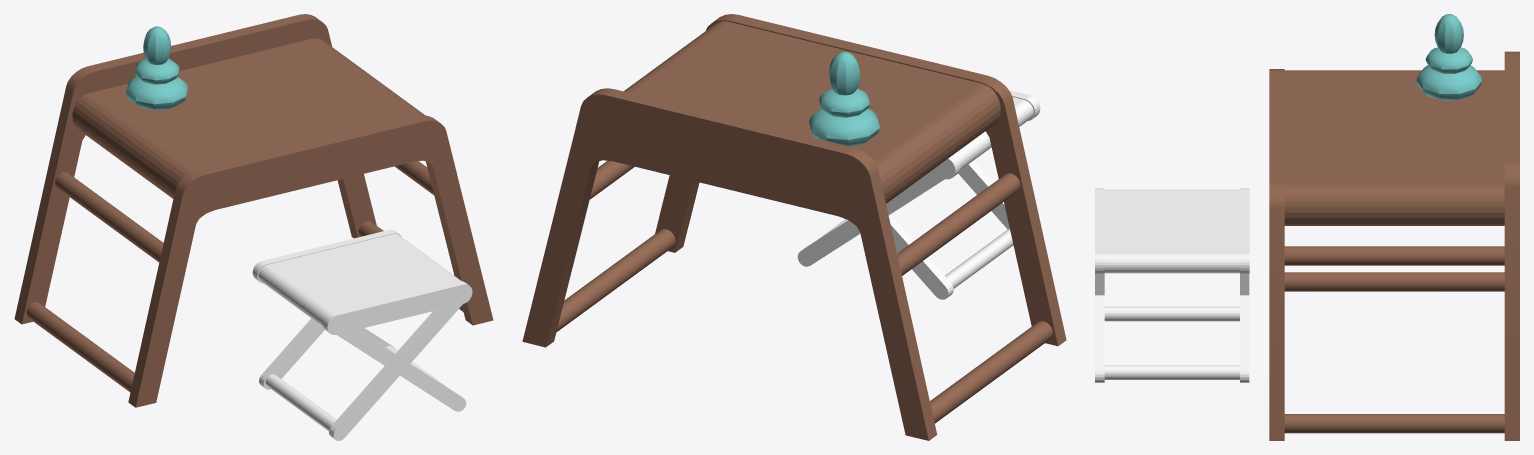
Rendered from Furn4_worktable_color2.fbx.
3 renders of one model, left to right at view 1: azimuth 30°, elevation 25°; view 2: azimuth 150°, elevation 25°; view 3: azimuth 270°, elevation 25°, orthographic. The views are drawn at different scales.
Visible parts, largest first — view 1: Куб.250; view 2: Куб.250; view 3: Куб.250.
Part boxes in pixels (x1,y1,x2,y2): Куб.250: (14,14,493,440); Куб.250: (522,14,1066,440); Куб.250: (1095,14,1519,440).
Size of the model in its own units: 244 by 189 by 242.
